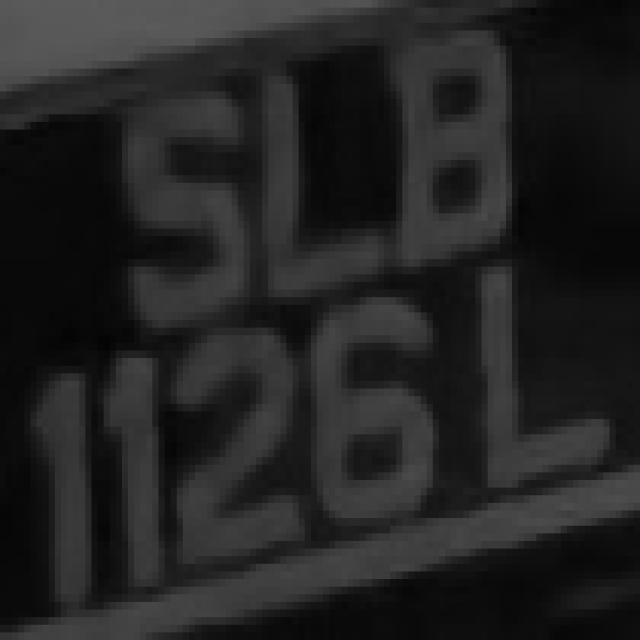1: (86, 320, 164, 617), (18, 350, 86, 640)
2: (164, 297, 311, 594)
6: (305, 259, 451, 549)
B: (384, 15, 506, 290)
L: (445, 228, 634, 488), (244, 53, 378, 328)
S: (104, 53, 256, 343)
